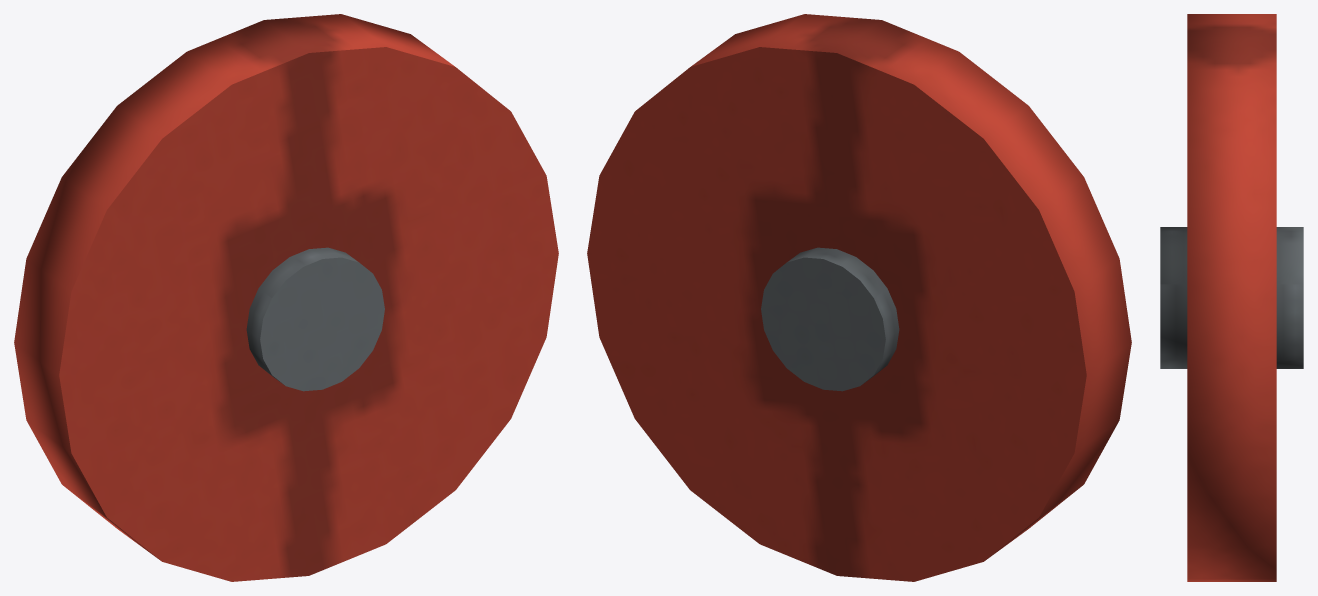
The model's file is 6_pulleyL.obj.
The picture shows the model from 3 angles, left to right: view 1: azimuth 30°, elevation 25°; view 2: azimuth 150°, elevation 25°; view 3: azimuth 270°, elevation 25°; orthographic projection.
Size of the model in its own units: 0.32 by 0.32 by 0.08.
Materials: 1 (1 with a texture image).
